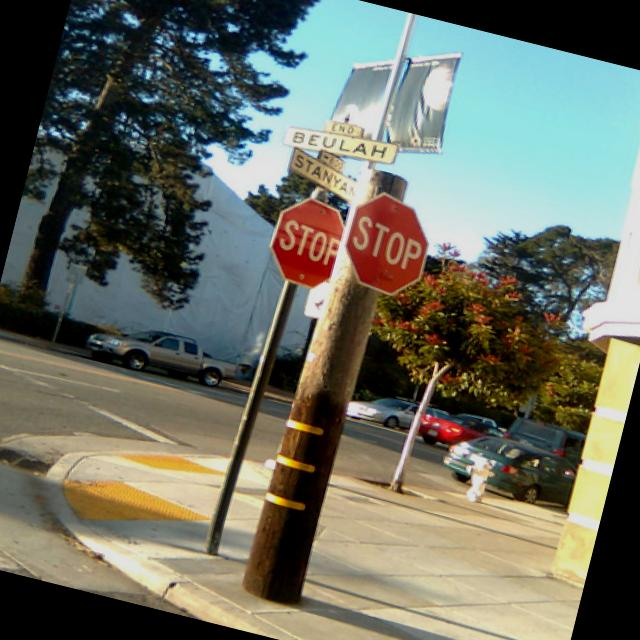Vehicle: (437, 422, 580, 512), (84, 313, 242, 394), (342, 387, 448, 441), (418, 410, 504, 460)
